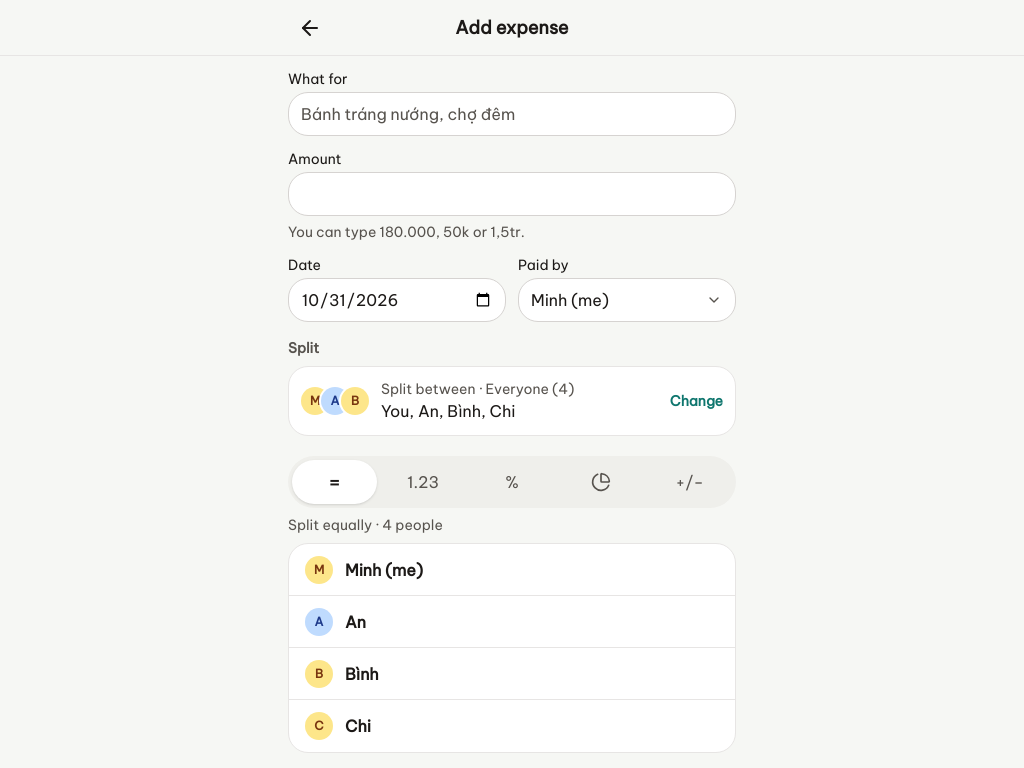
ExpenseForm › splits equally between everyone ticked
Type "180.000" into the field labelled "Amount".
click(512, 194); type("180.000")  # box [288,172,736,216]
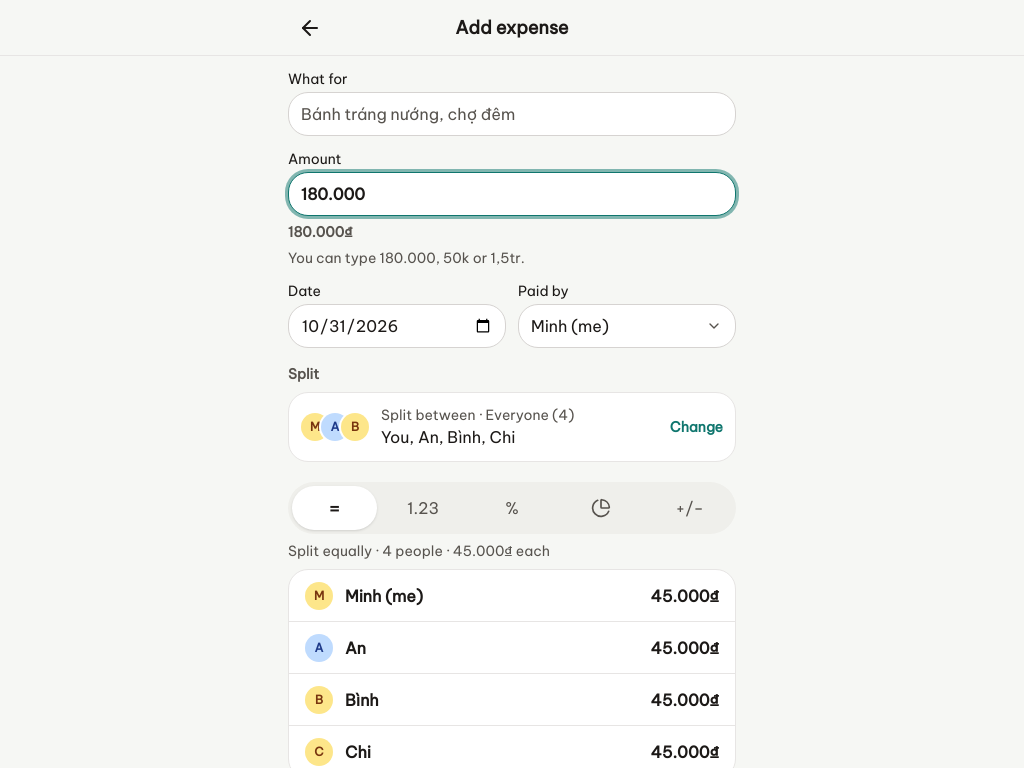
Expected: the 3rd text "45.000₫" is shown, [651,688,719,712]
